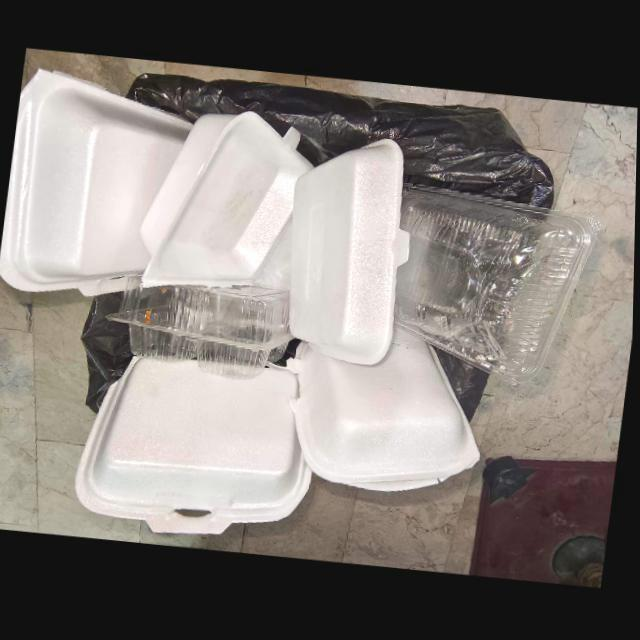plastic_container: (396, 181, 599, 384), (106, 276, 296, 379)
